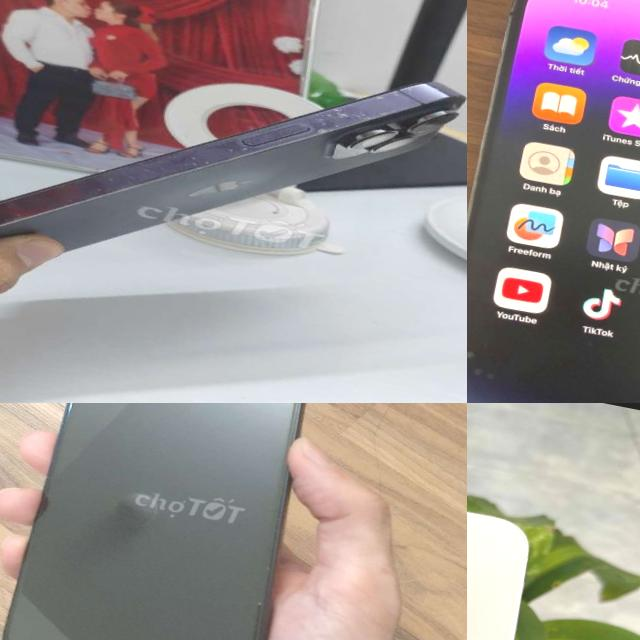gen_12_13: (0, 403, 365, 640), (467, 479, 546, 640)
gen_14: (0, 0, 467, 357), (467, 0, 640, 403)
scratch: (264, 60, 453, 167), (134, 115, 267, 208), (38, 160, 129, 226), (467, 336, 515, 395)
